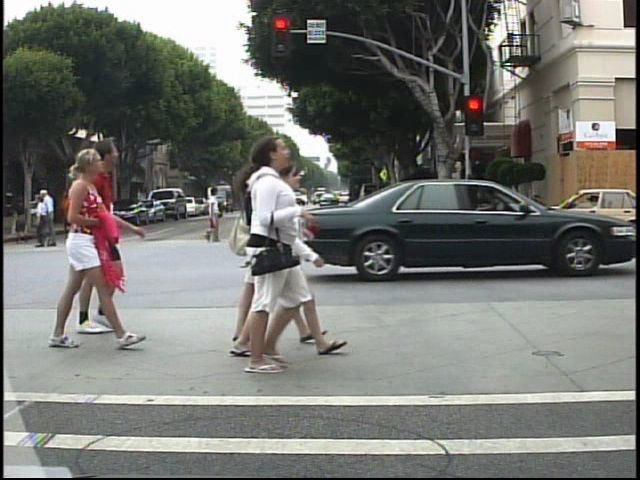person: (229, 136, 314, 379), (271, 159, 349, 372), (221, 147, 299, 354), (44, 146, 117, 354), (89, 139, 132, 336), (373, 177, 401, 240), (199, 184, 224, 247), (263, 184, 285, 242), (42, 186, 59, 247), (29, 194, 40, 249), (357, 187, 372, 223)
